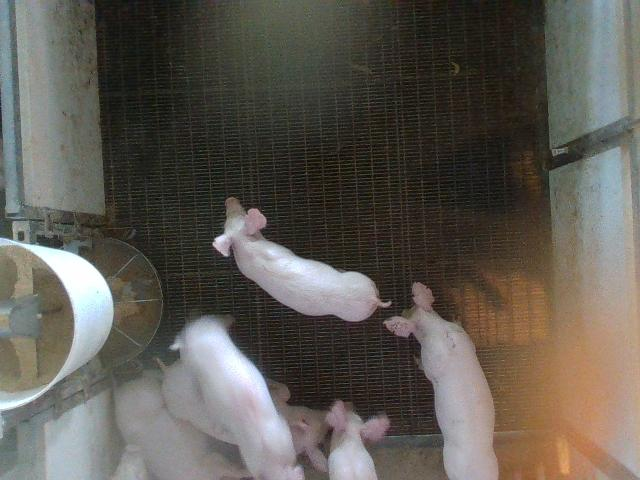pig-4: (174, 316, 304, 479)
